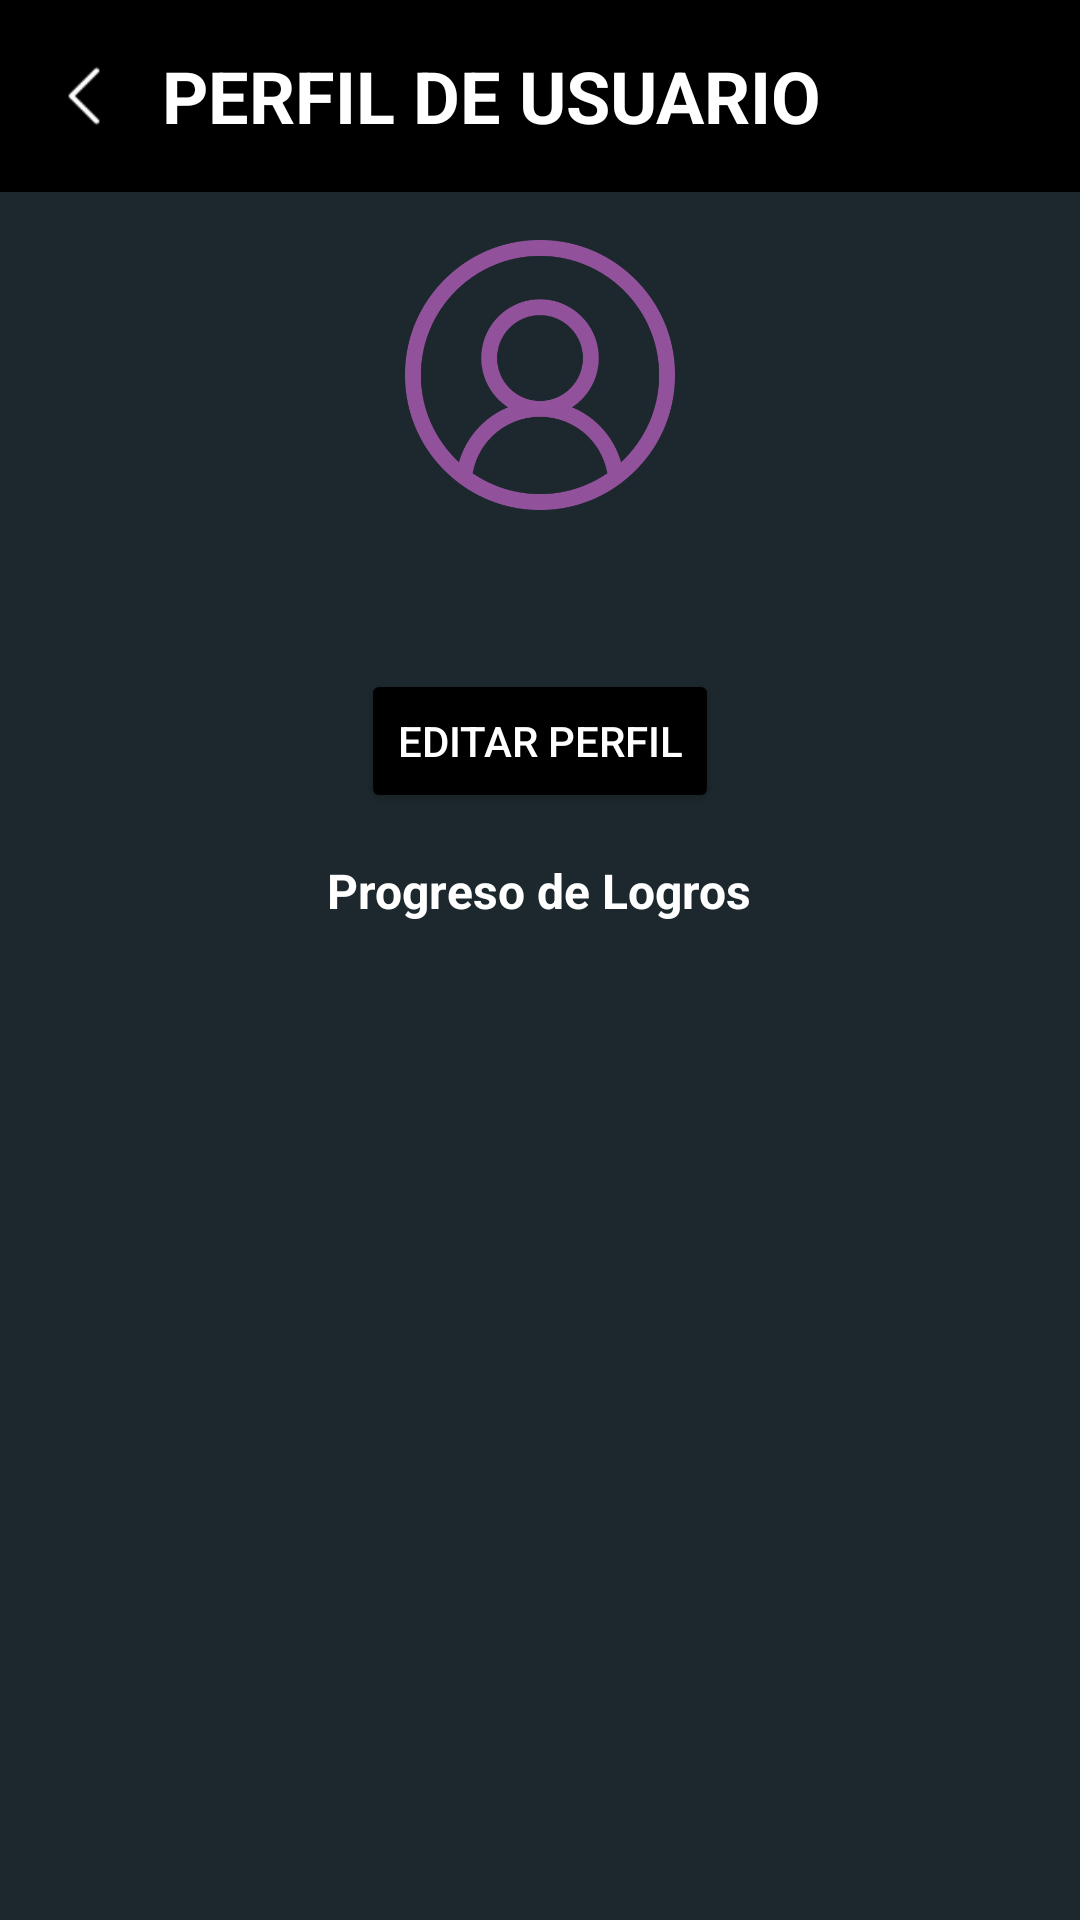

Icon click points for this 1080x1920 phone screenshot, format (x=x, y=y):
atras: (x=84, y=96)
user: (x=540, y=375)
